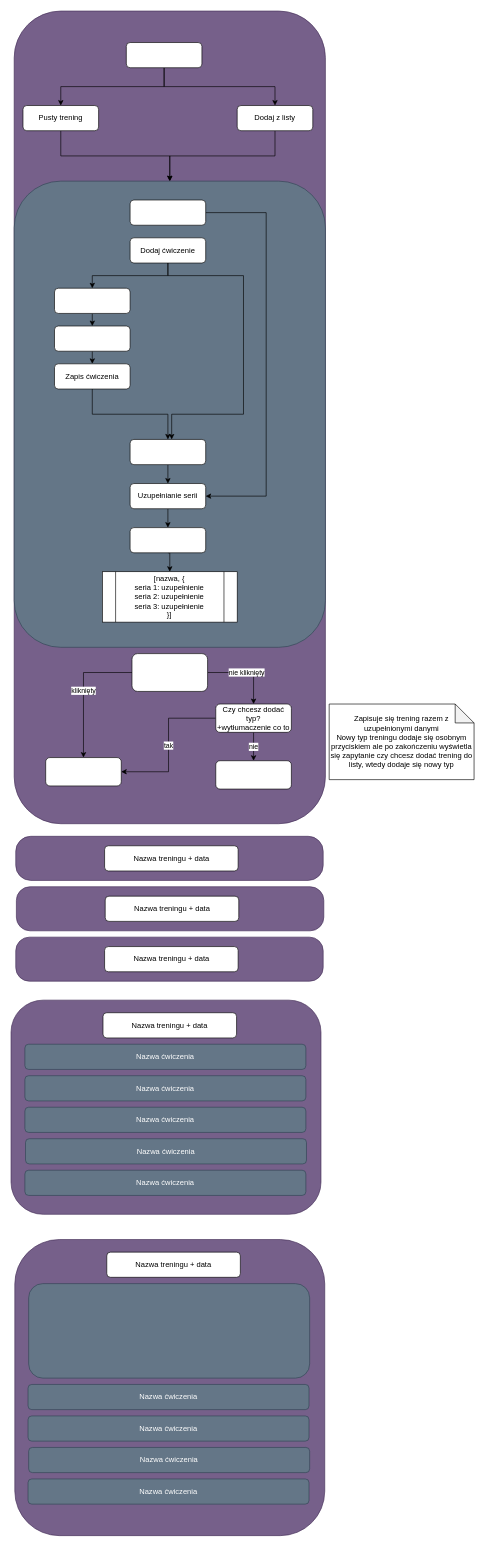
This 485x1547 diagram has some shape labels left out. The shapes that lost their labels are listed below. From the top down, each one's centre as x and y in pixels, then its label:
At pixel 164 55: "Dodaj trening".
At pixel 167 212: "Uzupełnij ćwiczenie".
At pixel 92 300: "Nowe ćwiczenie".
At pixel 92 338: "Typ ćwiczenia np seria kg min".
At pixel 167 452: "Wybierz z listy".
At pixel 167 540: "Zapis".
At pixel 169 672: "(opcjonalny) przycisk dodaj TYP".
At pixel 83 771: "Zapisz trening + typ".
At pixel 253 774: "Zapisz sam trening".
At pixel 169 1330: "-po kliknięciu- Szczegóły ćwiczenia".
